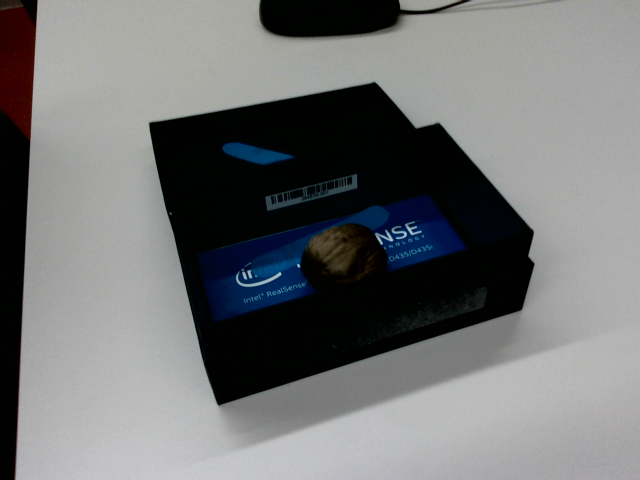walnut: (291, 213, 391, 296)
